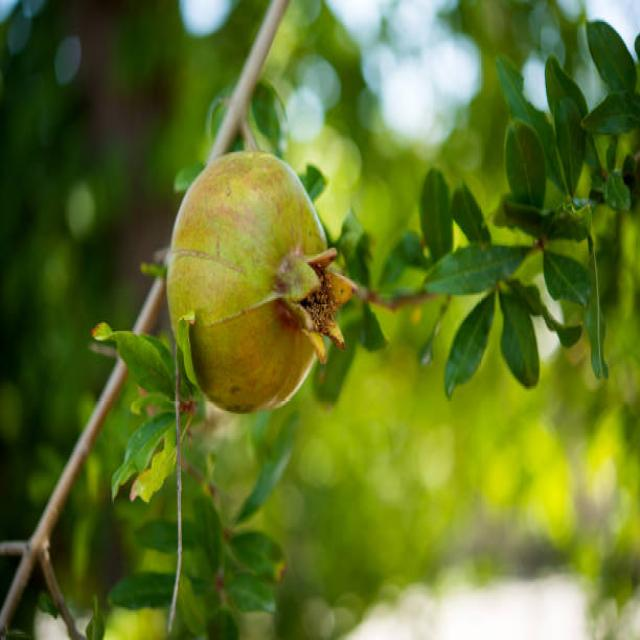Unripe: (168, 149, 356, 416)
